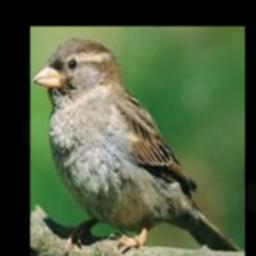Sparrow: (32, 38, 241, 256)
